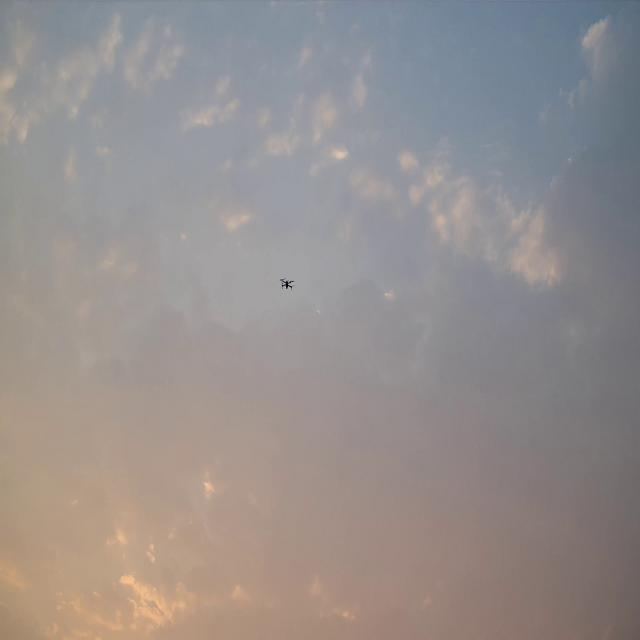drone: (279, 277, 296, 291)
